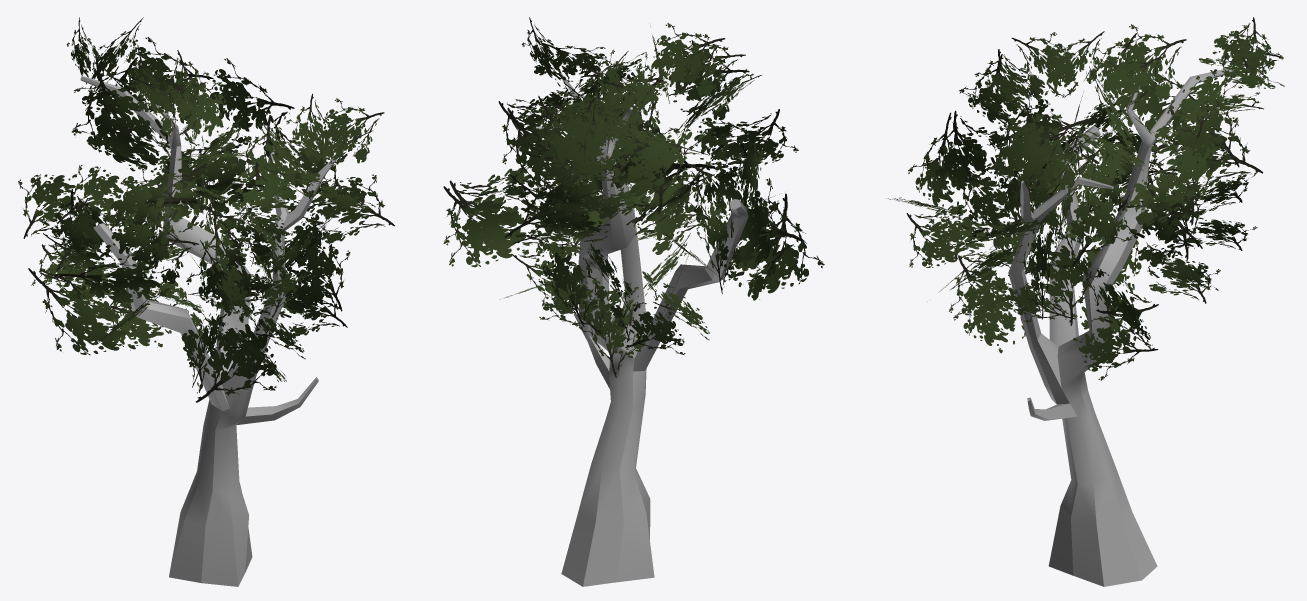
The model's file is treeA_04_normals.fbx.
The picture shows the model from 3 angles, left to right: view 1: azimuth 30°, elevation 25°; view 2: azimuth 150°, elevation 25°; view 3: azimuth 270°, elevation 25°; orthographic projection. The views are drawn at different scales.
Visible parts, largest first — view 1: polySurface3; view 2: polySurface3; view 3: polySurface3.
Boxes of the visible parts, x1=… form: polySurface3: x1=18, y1=17, x2=394, y2=586; polySurface3: x1=443, y1=17, x2=824, y2=586; polySurface3: x1=887, y1=17, x2=1284, y2=586.
Size of the model in its own units: 359 by 512 by 353.
Materials: 2 (1 with a texture image).
